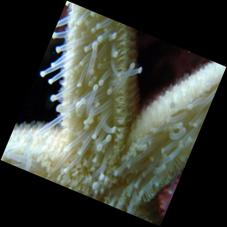bleached_corals: (2, 2, 226, 226)
